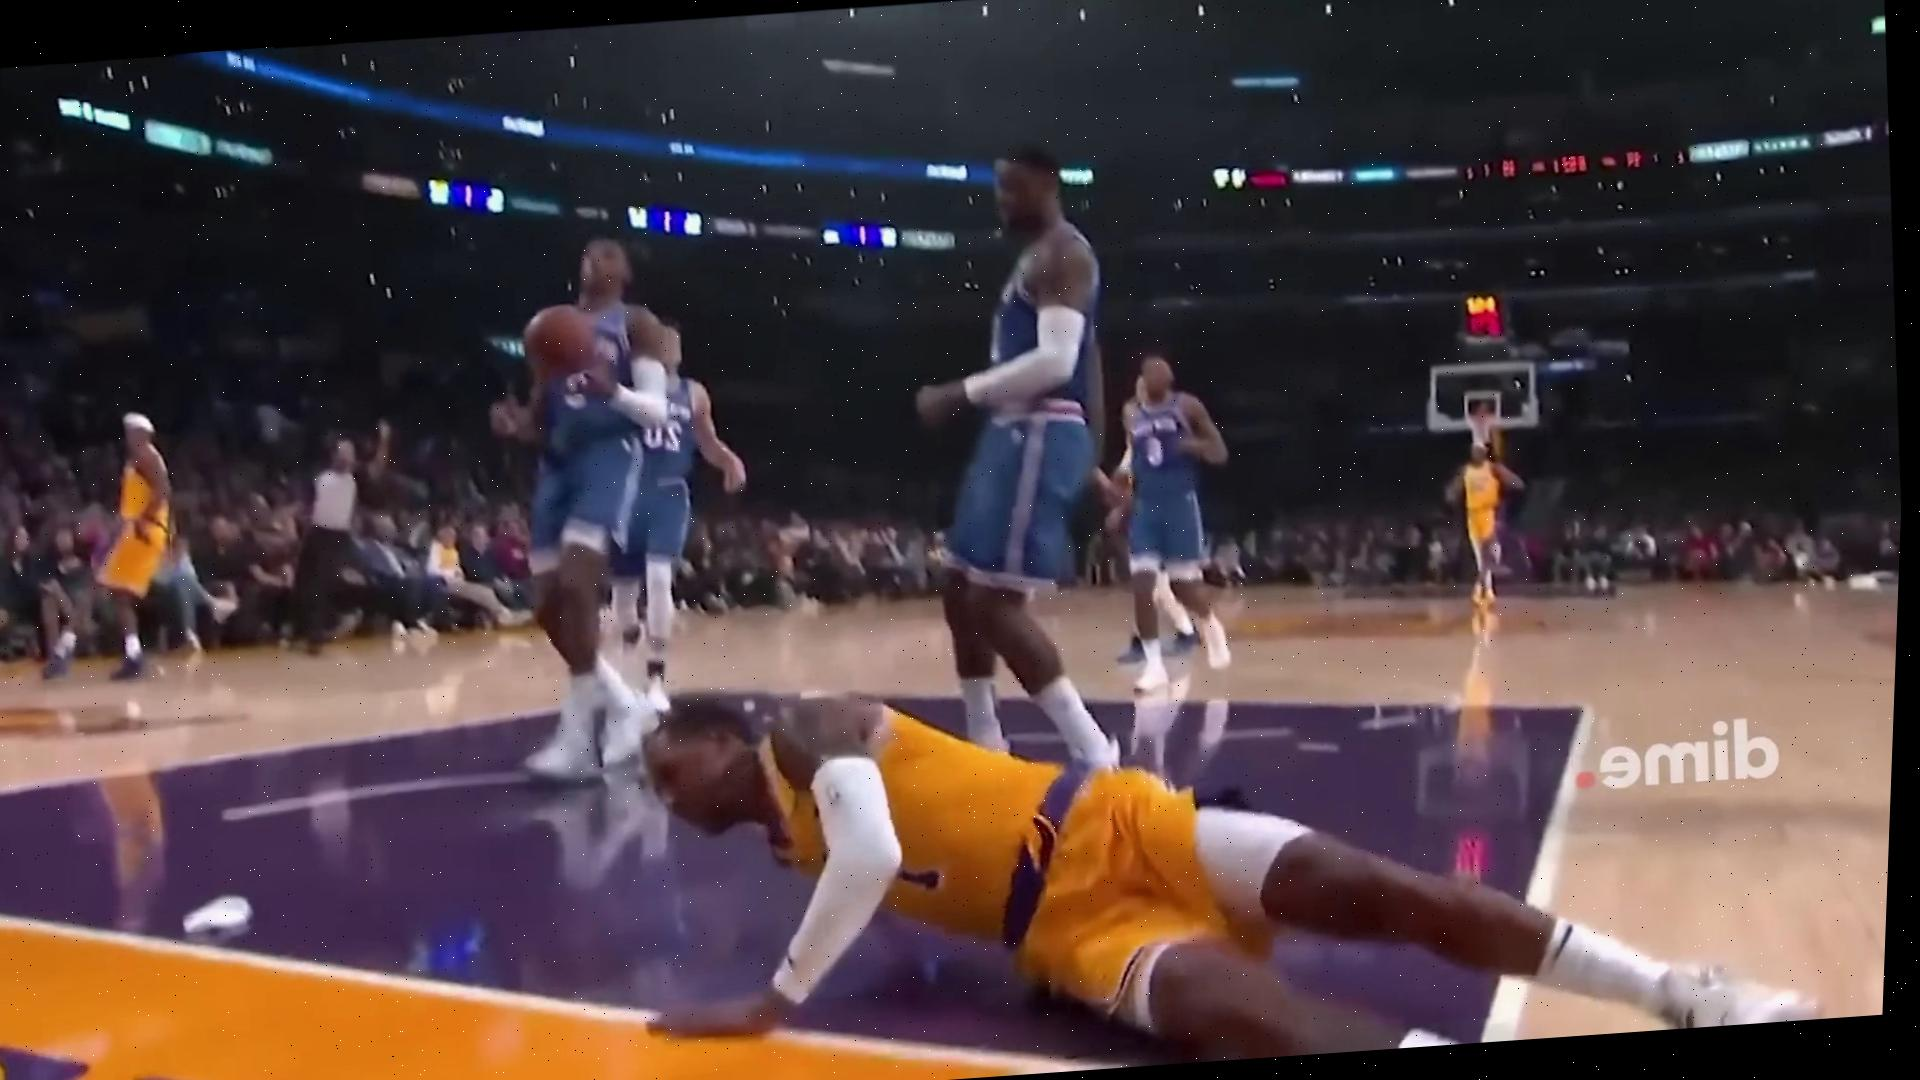no_foul: (542, 622, 1768, 1080)
